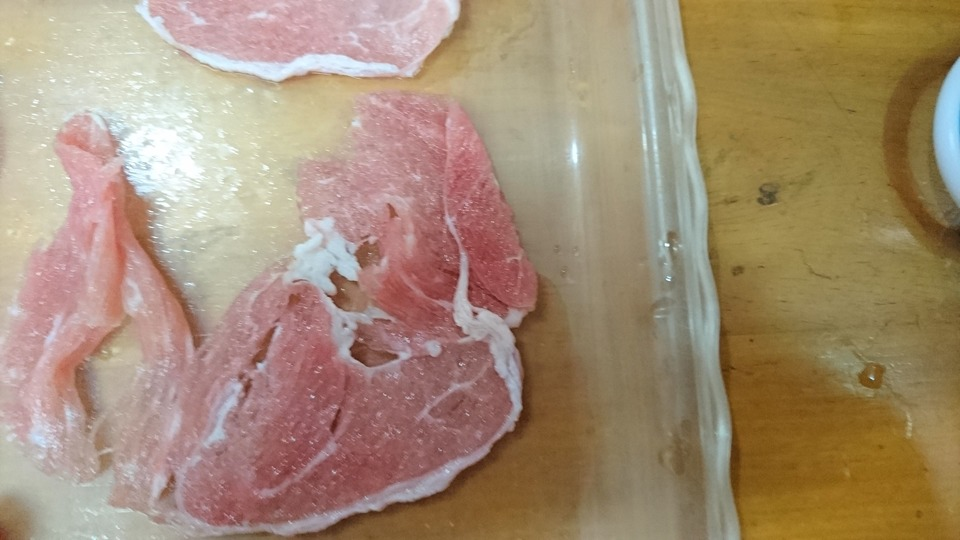restructured meat: (30, 106, 538, 525), (132, 5, 468, 83)
